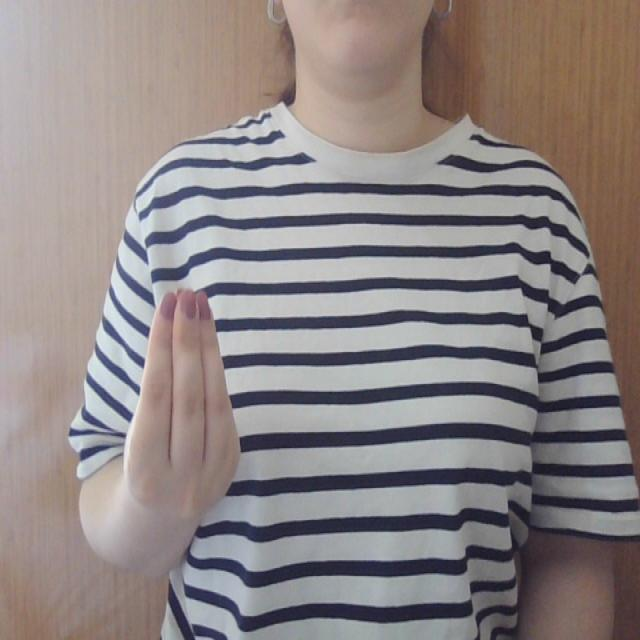iyi: (119, 288, 243, 522)
